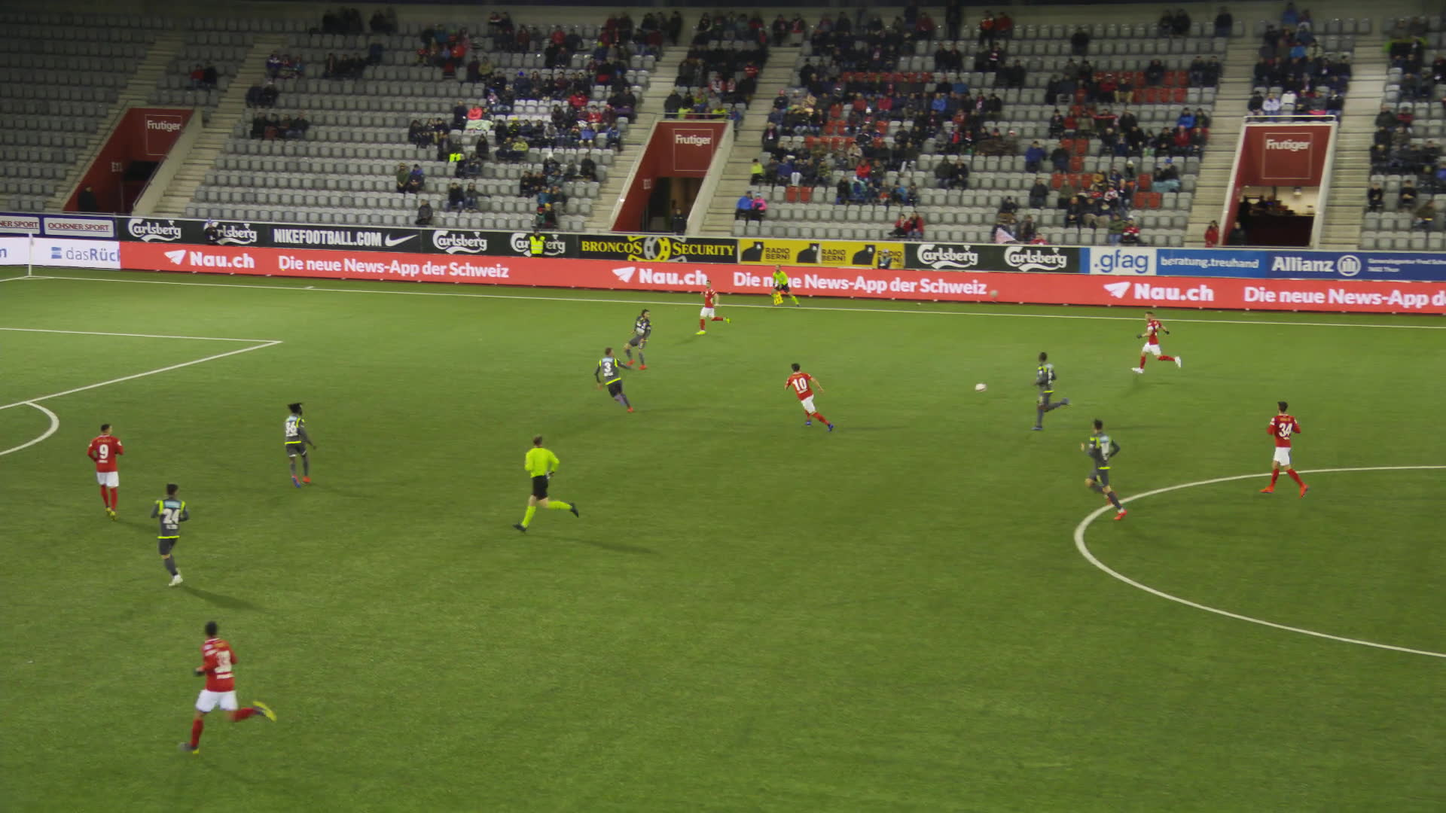ball: (976, 382, 986, 391)
player: (189, 622, 264, 760), (1081, 418, 1141, 516), (148, 481, 200, 583), (1259, 402, 1305, 497), (84, 424, 124, 519), (591, 346, 641, 415), (1033, 349, 1072, 429), (786, 363, 830, 431), (278, 405, 313, 487), (1136, 312, 1177, 376), (622, 307, 657, 369), (697, 276, 727, 335)
referee: (525, 434, 568, 537), (765, 262, 797, 306)
